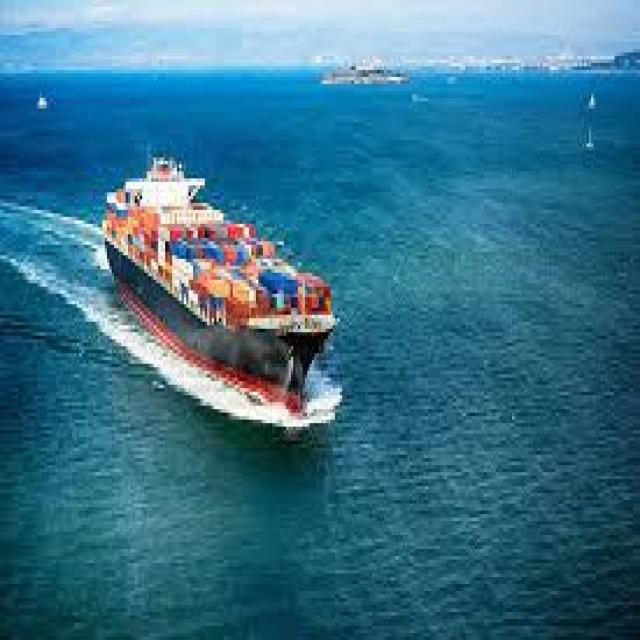cargoship: (105, 146, 332, 412)
